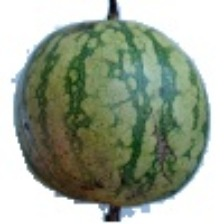watermelon: (16, 23, 181, 185)
